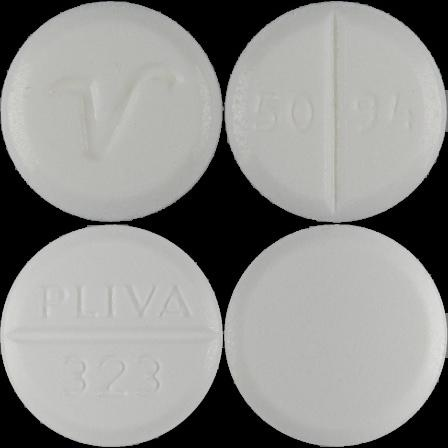50090-2402: (0, 0, 224, 224)
